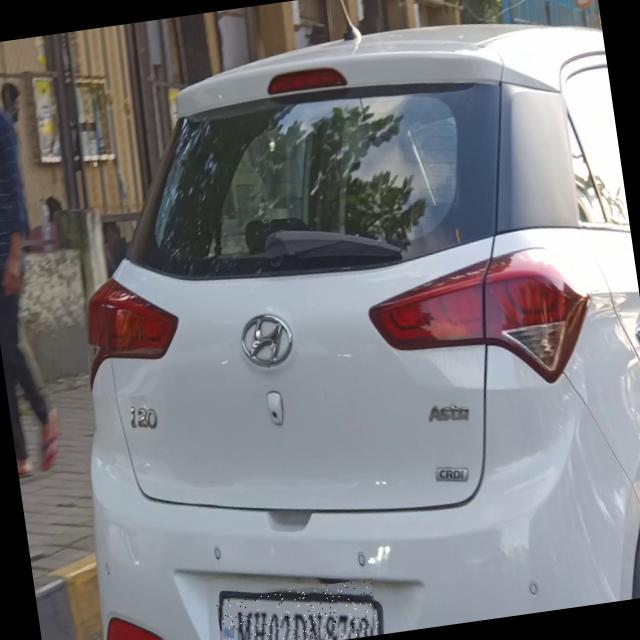Plate: (217, 579, 381, 640)
